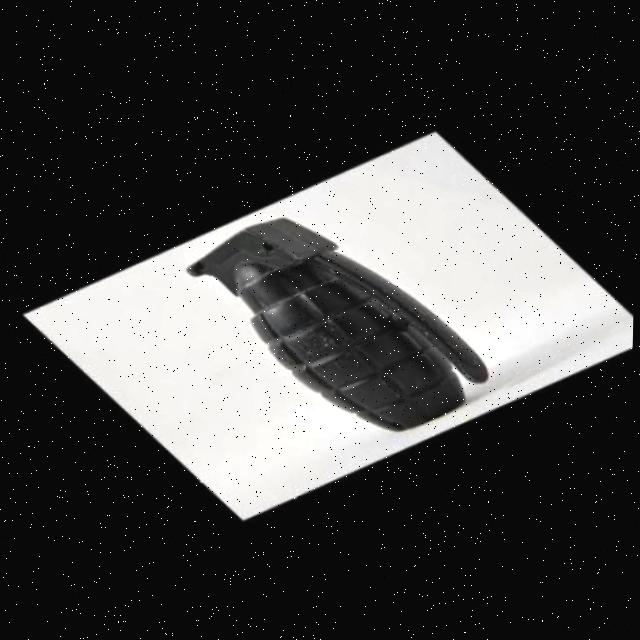grenade: (156, 187, 510, 463)
